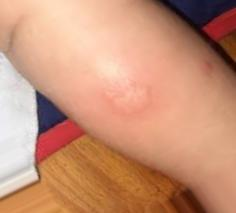Spider: (103, 79, 147, 113)
